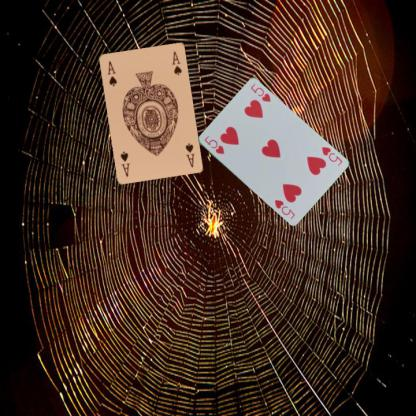5h: (318, 144, 343, 167), (202, 133, 225, 155)
As: (104, 58, 118, 87), (183, 141, 195, 168)
